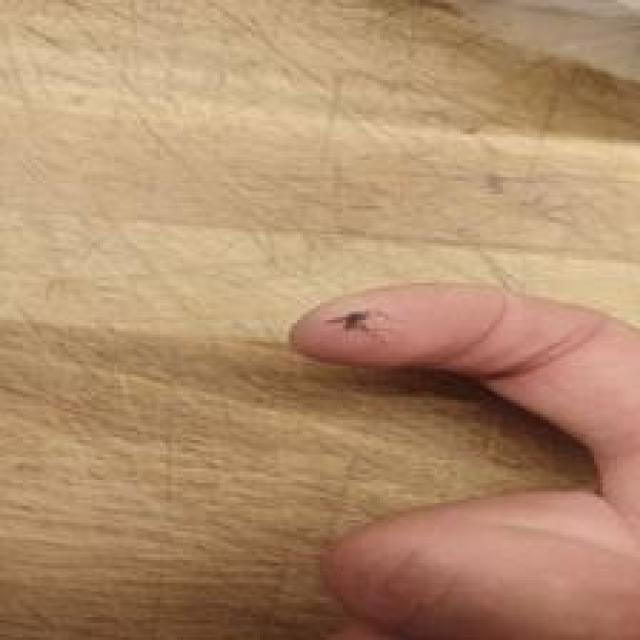Aedes albopictus: (326, 309, 371, 334)
